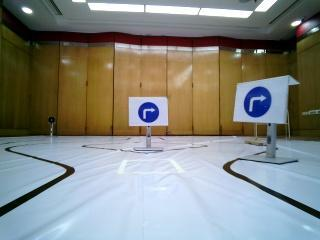right: (240, 84, 276, 119), (131, 96, 166, 125)
